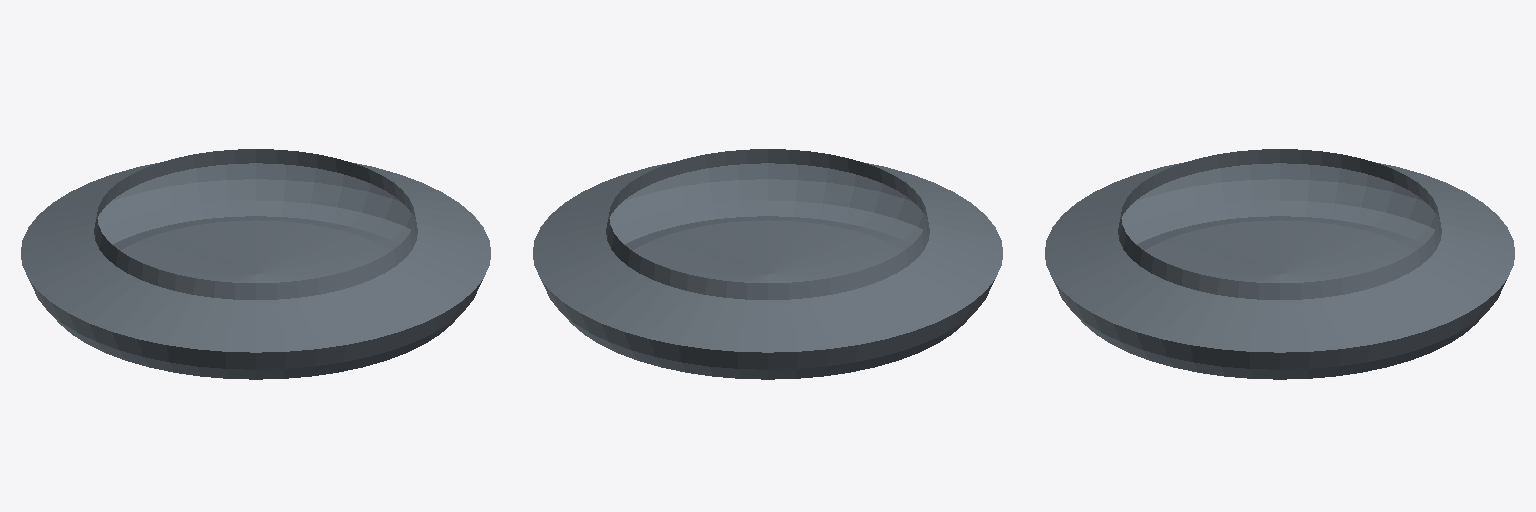
Rendered from ship.obj.
3 renders of one model, left to right at view 1: azimuth 30°, elevation 25°; view 2: azimuth 150°, elevation 25°; view 3: azimuth 270°, elevation 25°, orthographic.
Parts seen in each view (by area): view 1: ship; view 2: ship; view 3: ship.
Boxes of the visible parts, <box> form: ship: <box>21,149,490,379</box>; ship: <box>533,149,1002,379</box>; ship: <box>1045,149,1514,379</box>.
Bounding box in the file's own units: 2.5 × 0.4665 × 2.5.